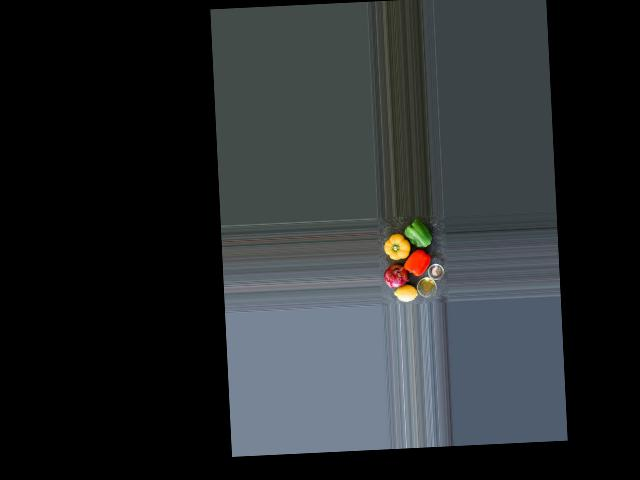bell_pepper: (402, 249, 432, 276)
